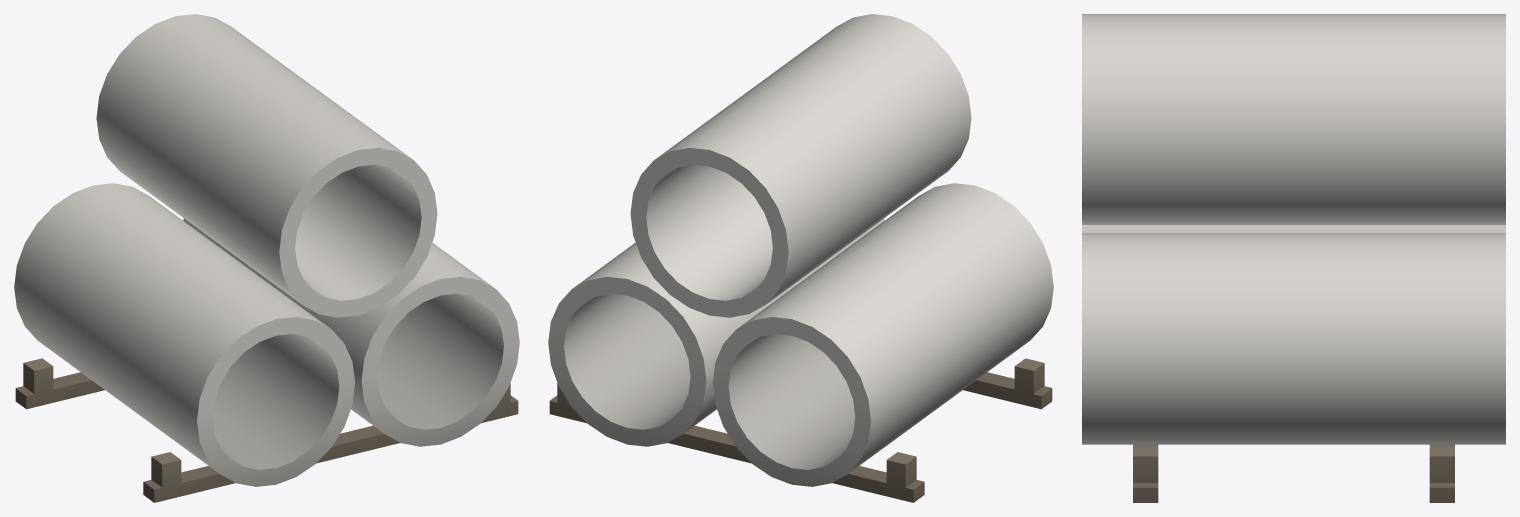
Rendered from concrete_pipes.glb.
The picture shows the model from 3 angles, left to right: view 1: azimuth 30°, elevation 25°; view 2: azimuth 150°, elevation 25°; view 3: azimuth 270°, elevation 25°; orthographic projection. The views are drawn at different scales.
Visible parts, largest first — view 1: concrete_pipes_LOD0; view 2: concrete_pipes_LOD0; view 3: concrete_pipes_LOD0.
Boxes of the visible parts, <box> form: concrete_pipes_LOD0: <box>14,14,519,502</box>; concrete_pipes_LOD0: <box>548,14,1053,502</box>; concrete_pipes_LOD0: <box>1082,14,1505,502</box>.
Size of what is drawn, in the model's own units: 2.3 by 1.96 by 2.
